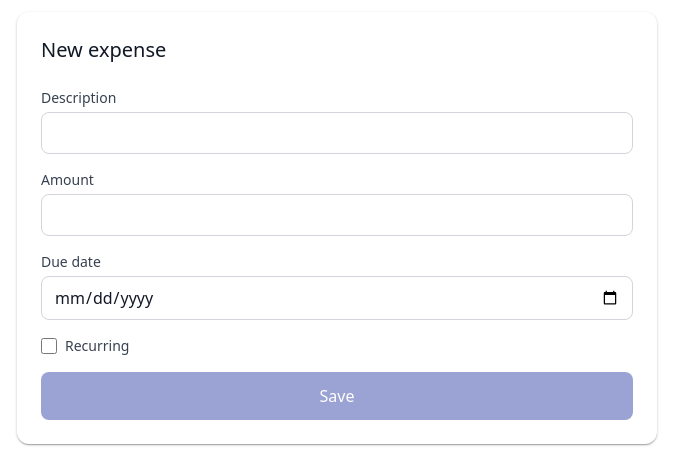
ExpenseForm › disables save until description, amount, and due date are filled
Check: the button "Save" is disabled, box [41,372,633,420]
Type "Rent" into the field labelled "Description" at [337, 133], box [41,112,633,154]
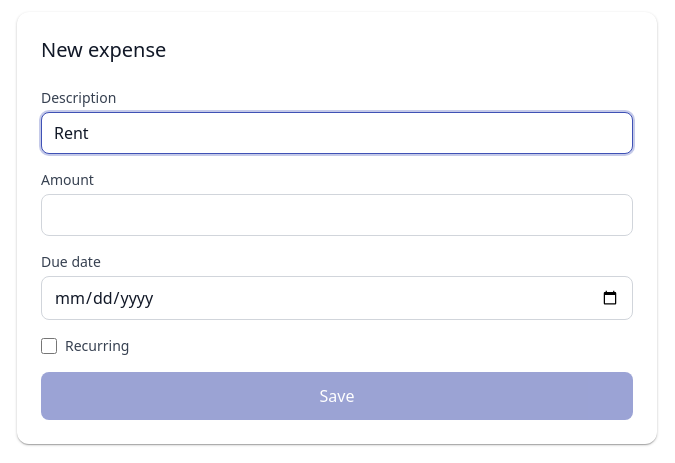
Type "100" into the field labelled "Amount" at [337, 215], box [41,194,633,236]
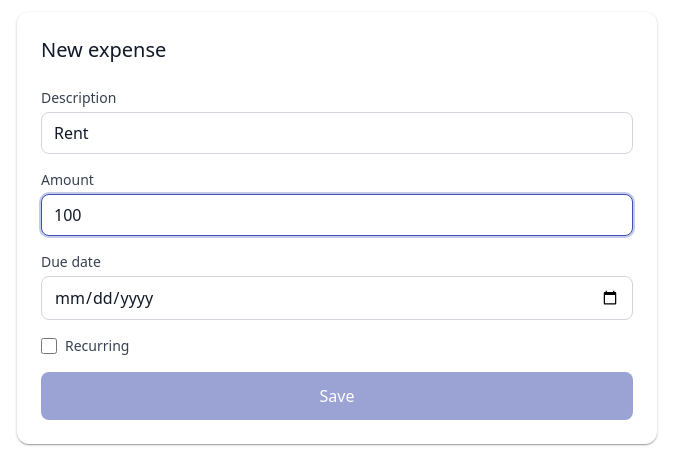
Type "2026-01-01" into the date field labelled "Due date" at [337, 298], box [41,276,633,320]
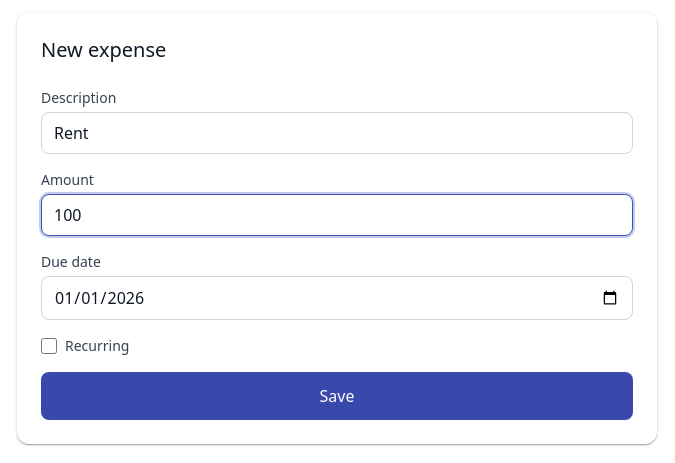
Check: the button "Save" is enabled, box [41,372,633,420]
